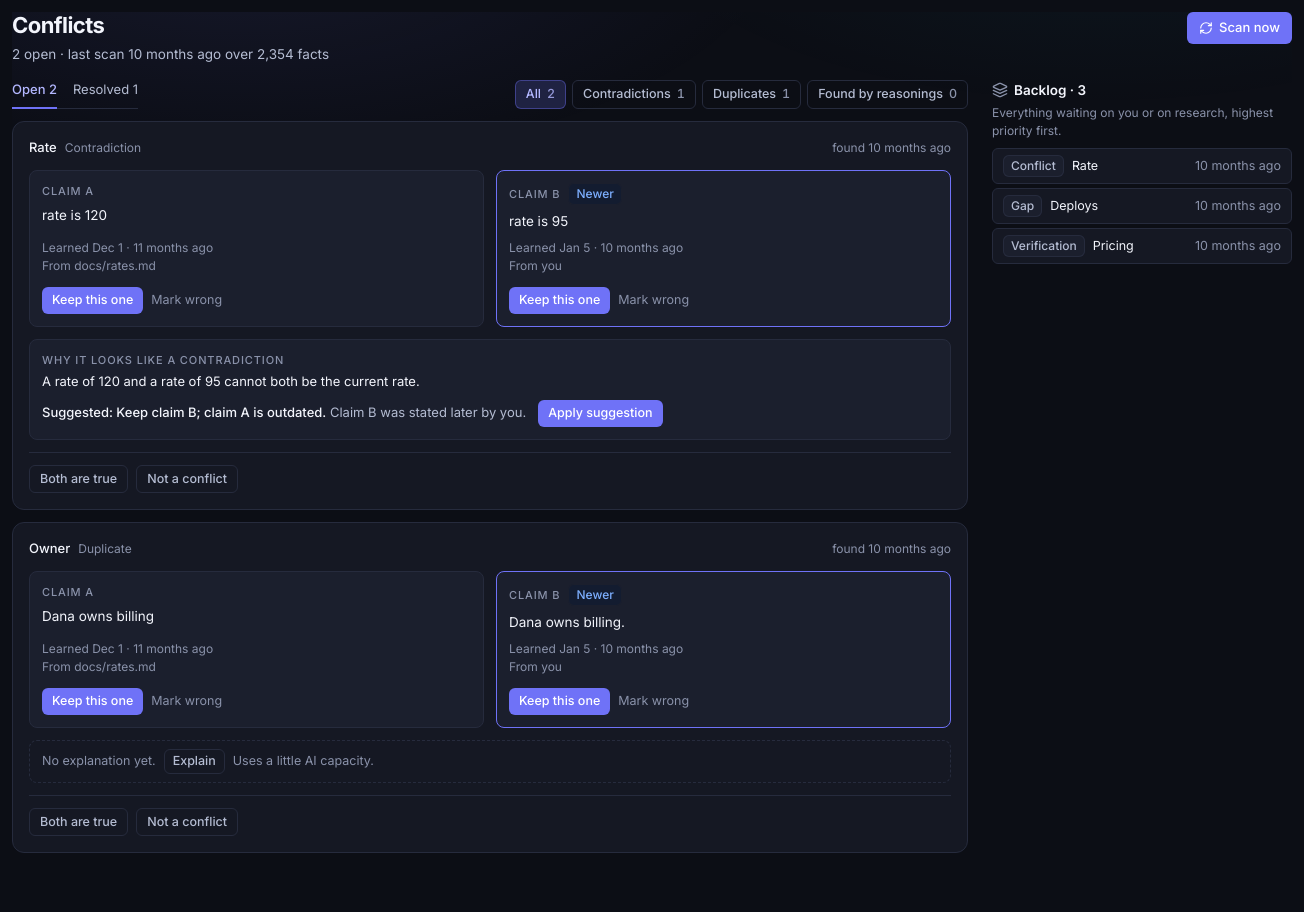
it: Conflicts (Refine PR 7) › keeps one claim: the row leaves Open at once, the toast offers Undo, and Undo reopens
The image size is (1304, 912).
Check: the tab "Open 2" is shown, box [12,80,57,109]
Click the button "Keep this one" below "rate is 95": (560, 300) [509,287,610,314]
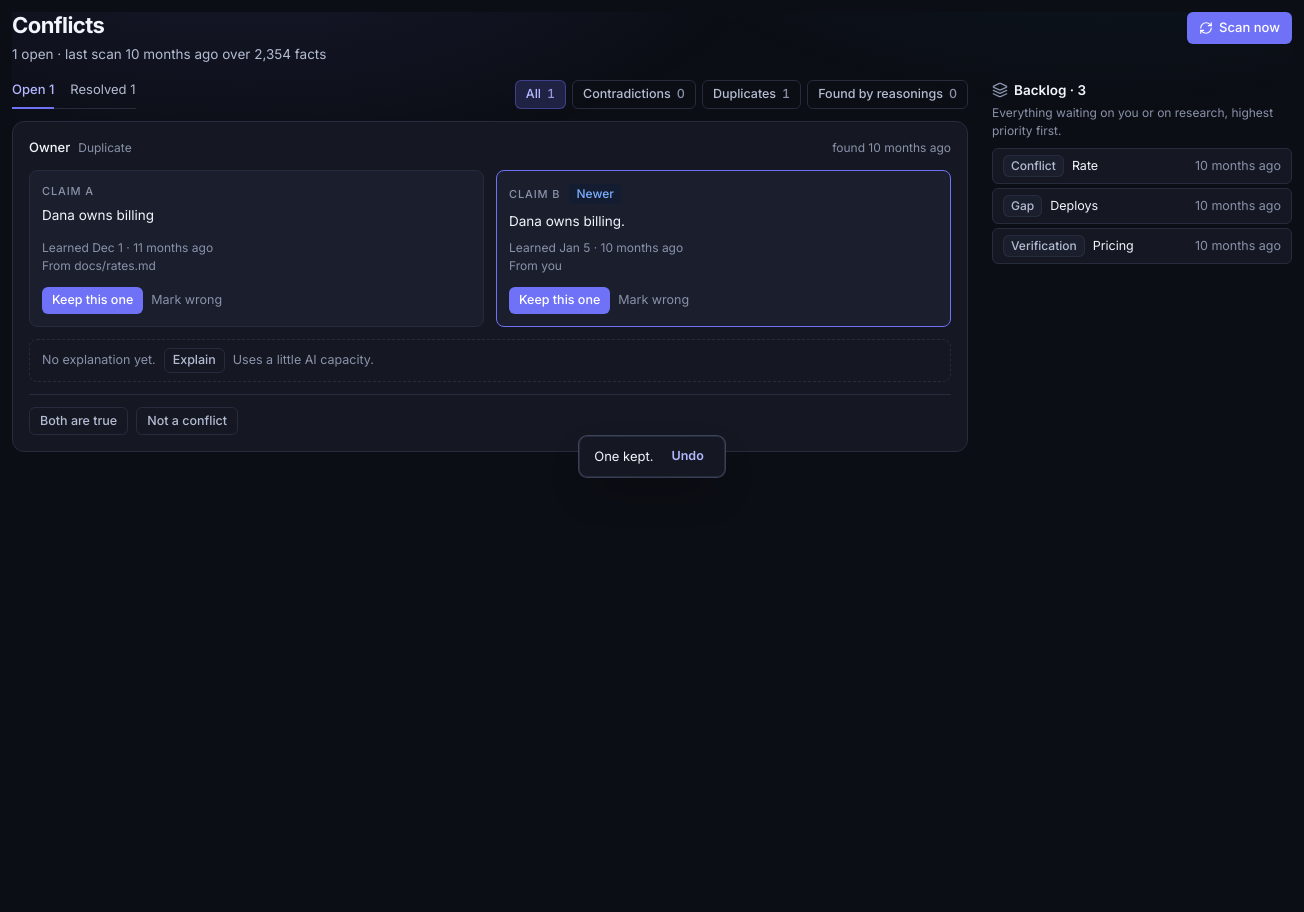
Check: the tab "Open 1" is shown, box [12,80,54,109]
Click the button "Undo": (688, 457) [666,445,710,468]
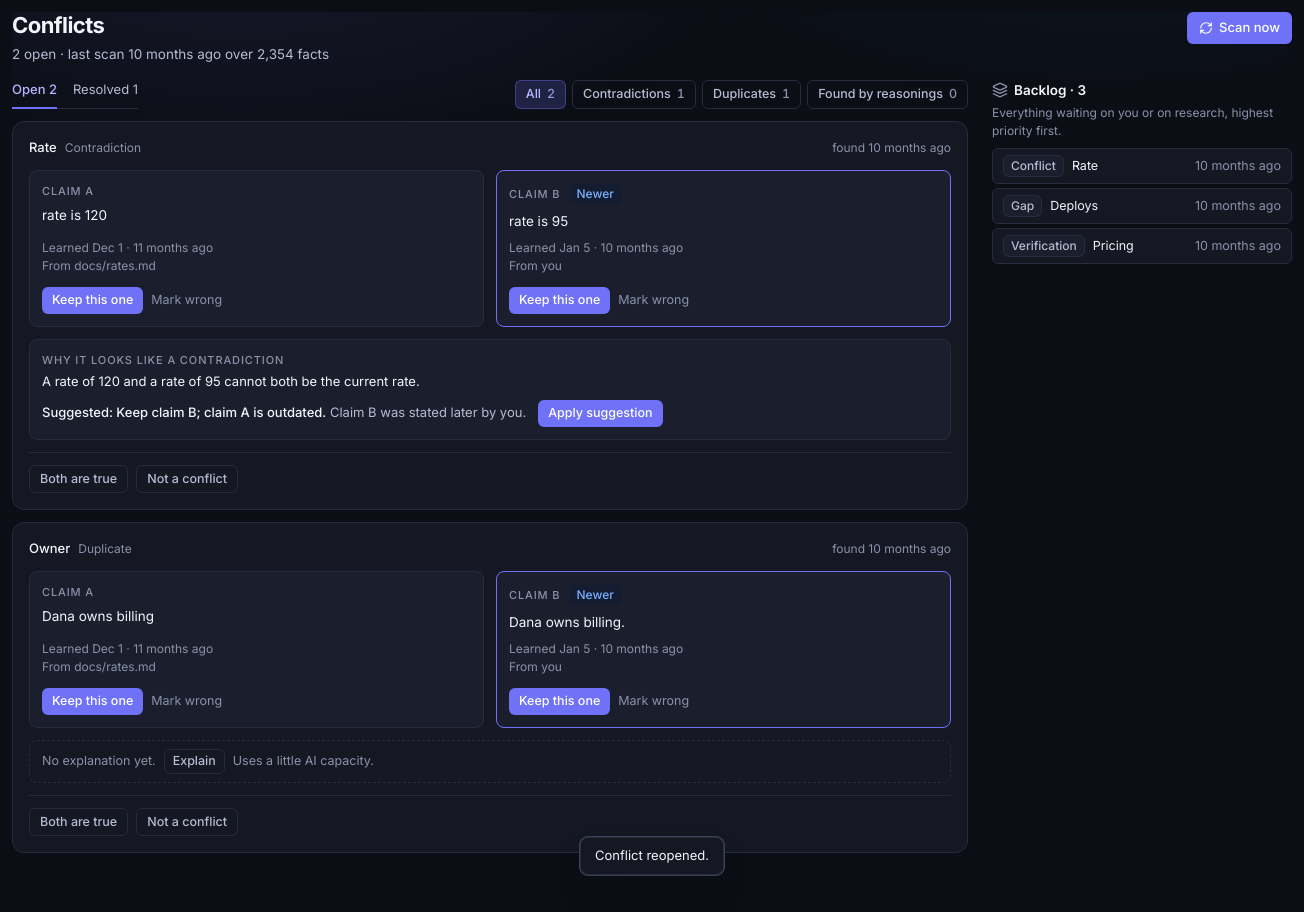
Check: the tab "Open 2" is shown, box [12,80,57,109]
